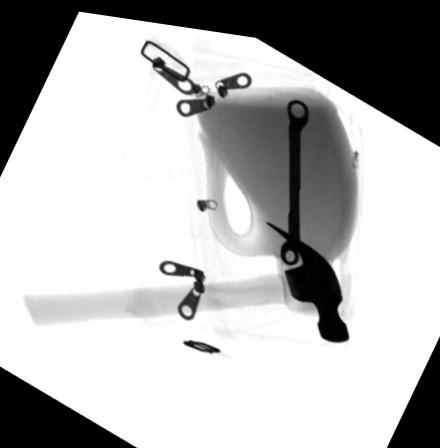Hammer: (22, 209, 348, 332)
Wrench: (279, 89, 311, 257)
